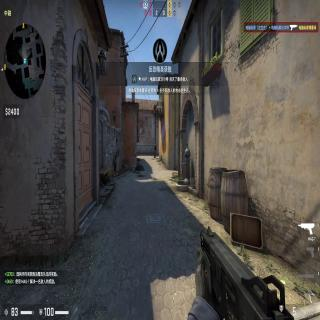T-Body: (154, 143, 156, 159)
